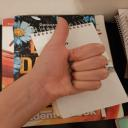ThumbsUp: (28, 13, 110, 106)
